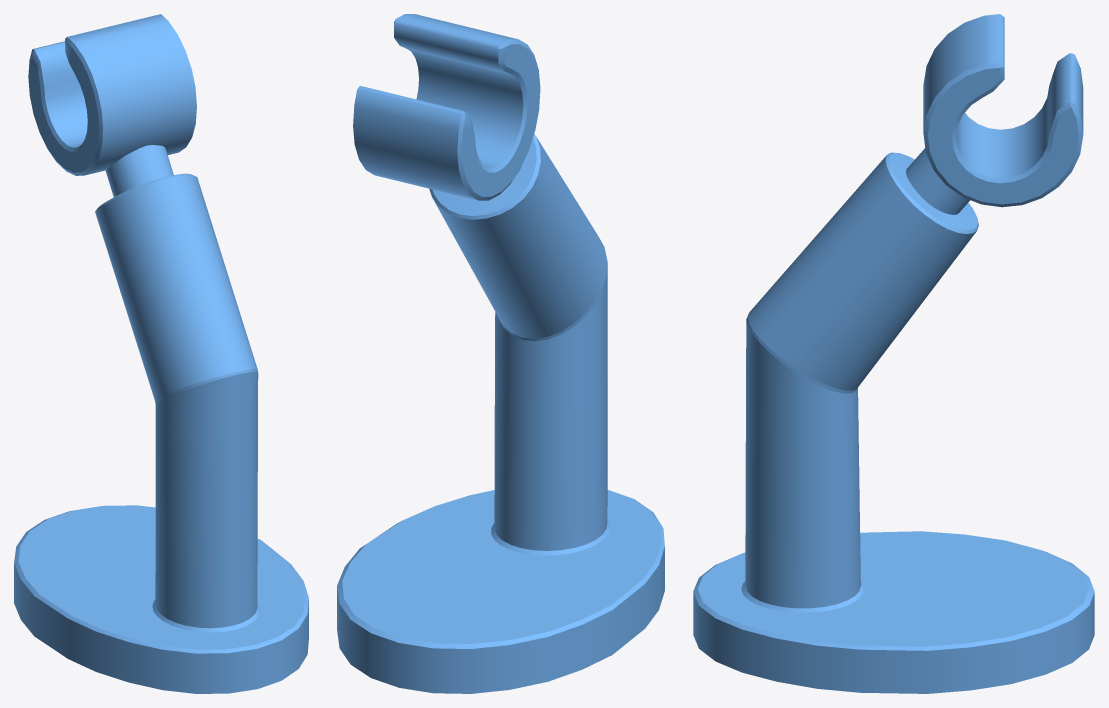
Rendered from headphones_holder.fbx.
3 renders of one model, left to right at view 1: azimuth 30°, elevation 25°; view 2: azimuth 150°, elevation 25°; view 3: azimuth 270°, elevation 25°, orthographic. The views are drawn at different scales.
Parts seen in each view (by area): view 1: handle_ready; view 2: handle_ready; view 3: handle_ready.
Boxes of the visible parts, left/top/right/bottom form: handle_ready: left=14, top=14, right=308, bottom=693; handle_ready: left=337, top=14, right=664, bottom=693; handle_ready: left=693, top=14, right=1094, bottom=693.
Size of the model in its own units: 27.91 by 65.49 by 39.98.
